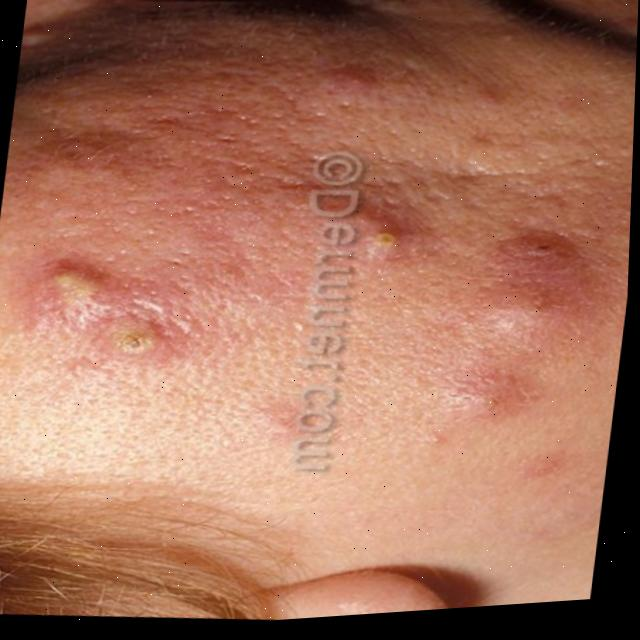Acne: (28, 86, 594, 471)
